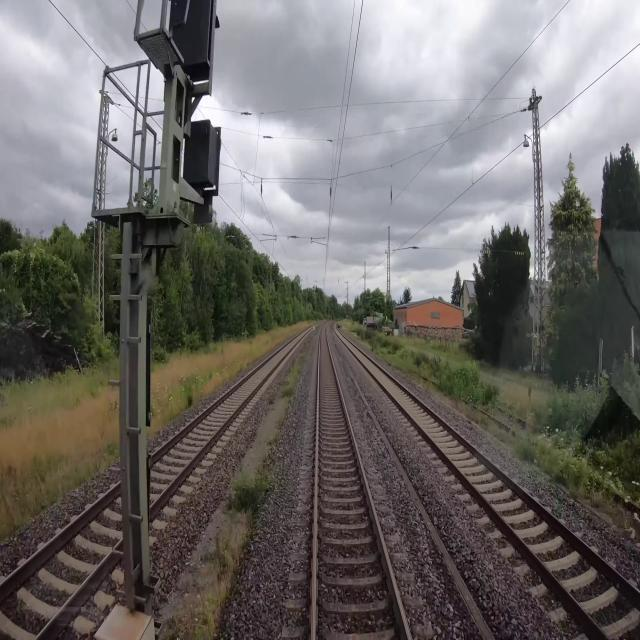Plant: (166, 469, 268, 639), (280, 340, 310, 398)
